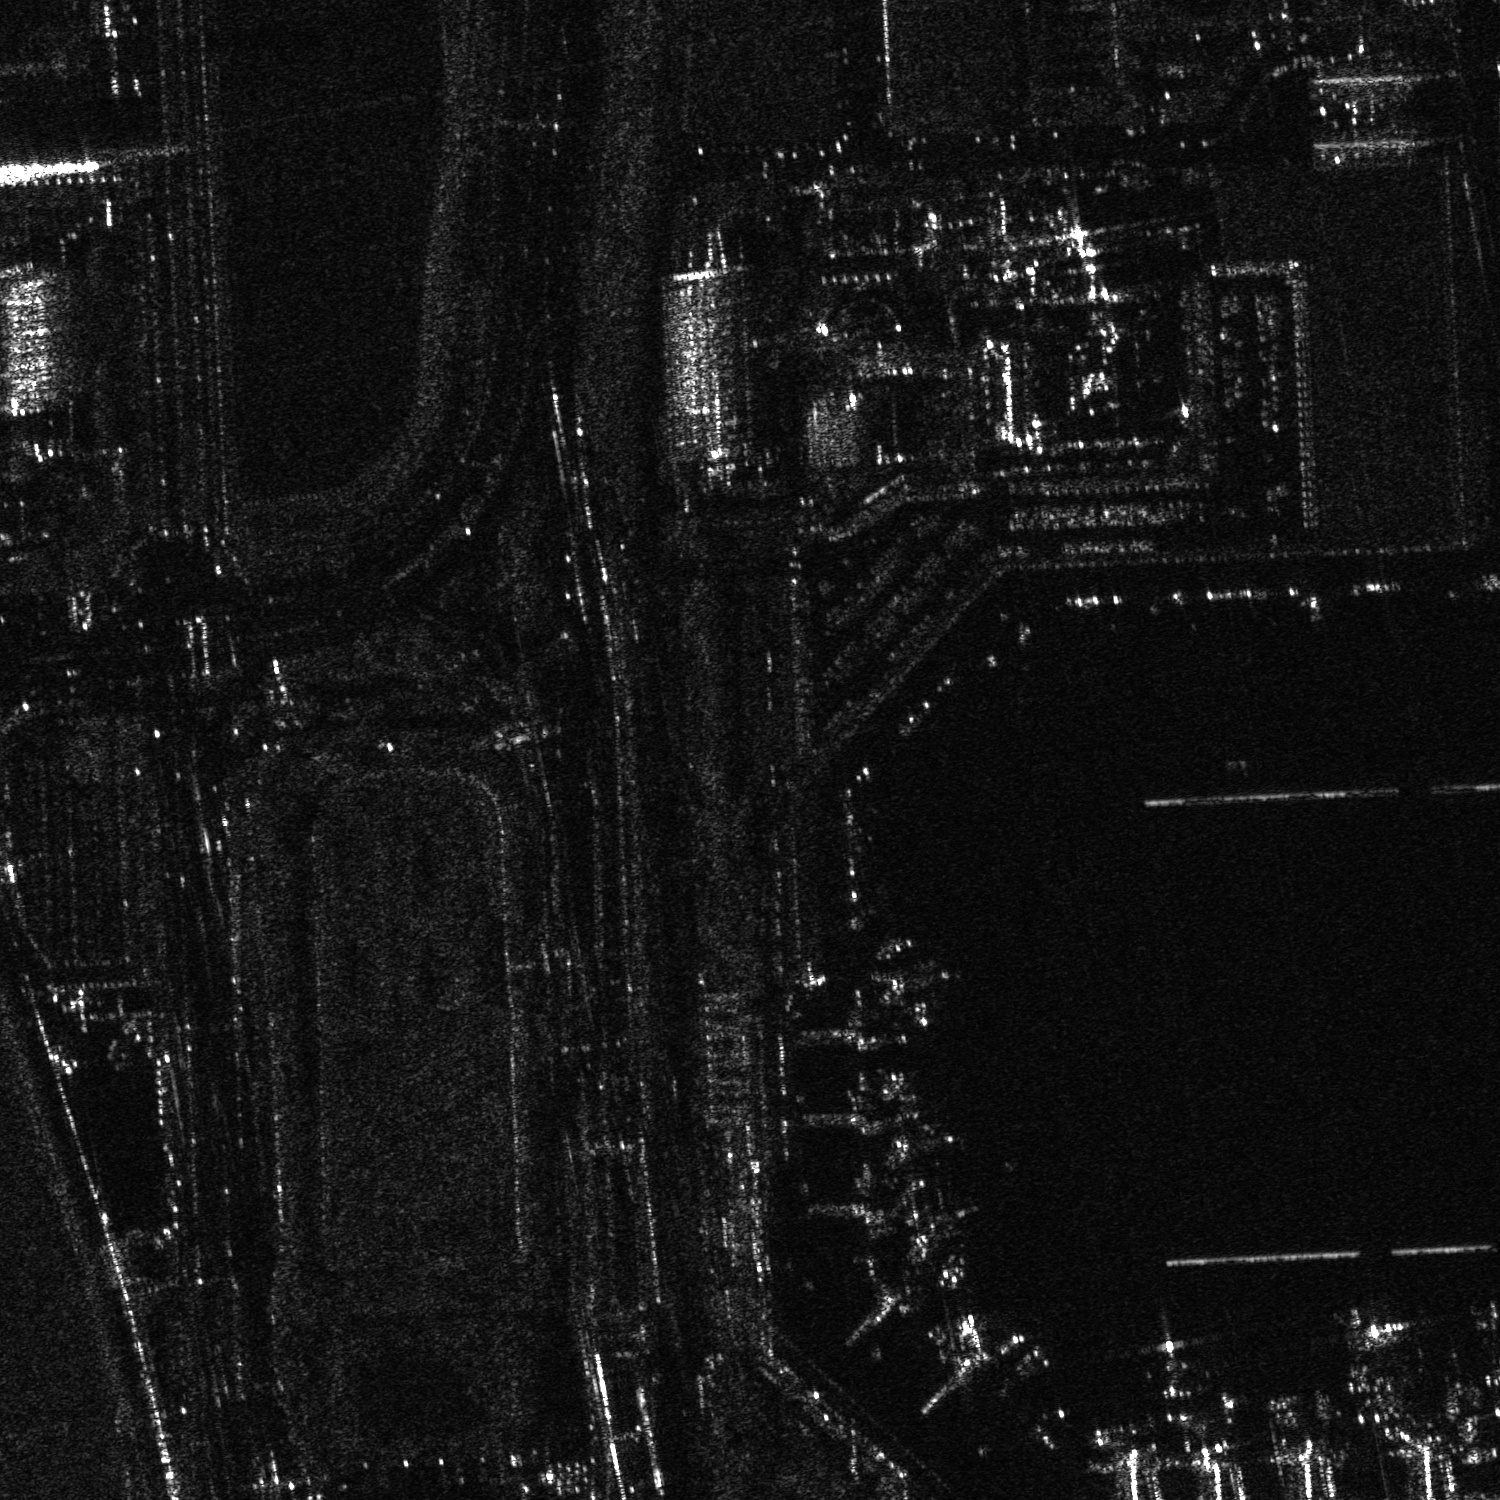A220: (1151, 1326, 1220, 1404)
A320/321: (1332, 1310, 1387, 1400), (1468, 1295, 1499, 1386)
